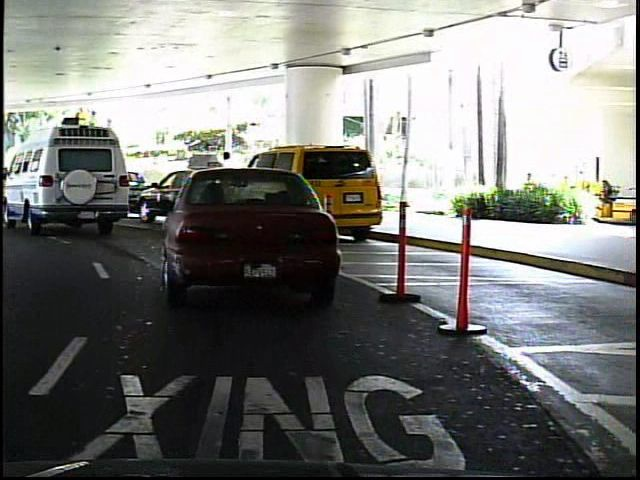person: (217, 147, 243, 218), (52, 156, 73, 199), (5, 157, 21, 198)
